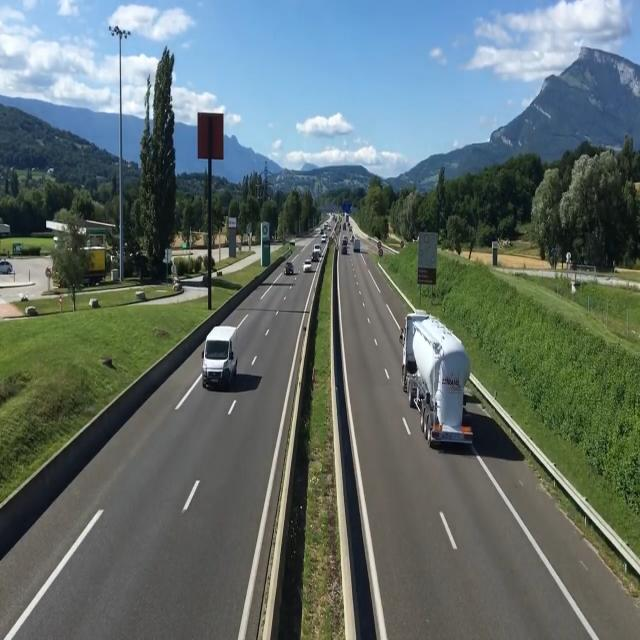car: (194, 322, 244, 393), (300, 258, 314, 276)
truck: (399, 308, 465, 438)
